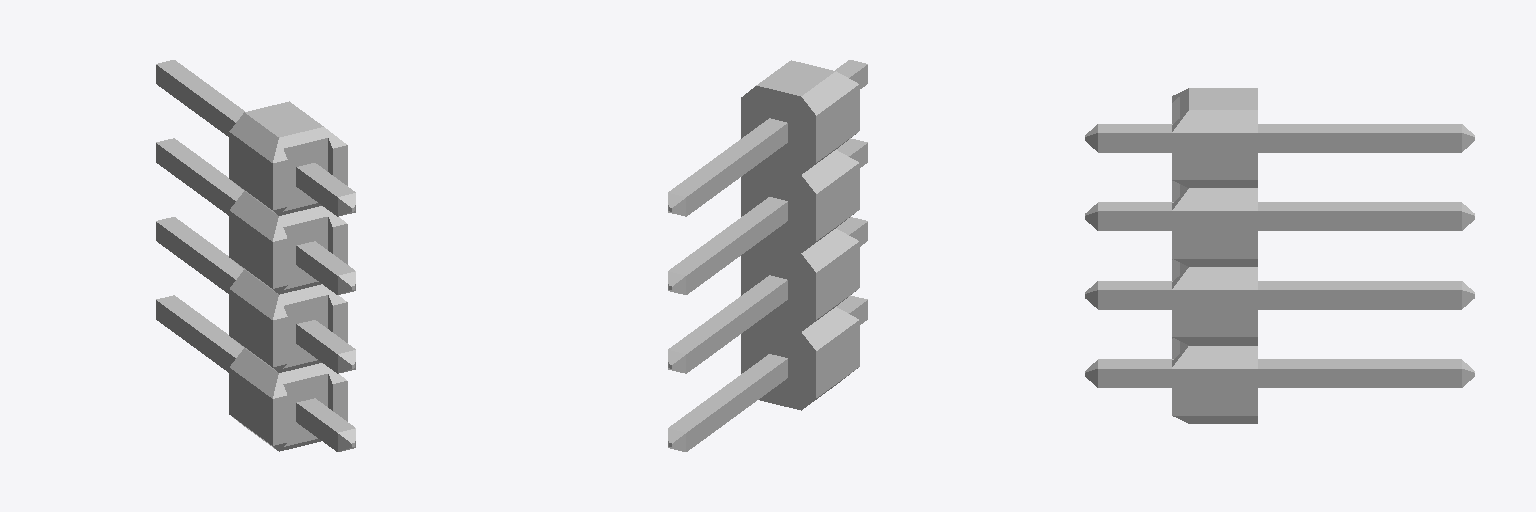
Rendered from Pin Header 4 x 1 TH 2.54mm Pitch.obj.
3 renders of one model, left to right at view 1: azimuth 30°, elevation 25°; view 2: azimuth 150°, elevation 25°; view 3: azimuth 270°, elevation 25°, orthographic.
Visible parts, largest first — view 1: Solid7, Solid1, Solid3, Solid5, Solid8, Solid4, Solid6, Solid2; view 2: Solid7, Solid1, Solid3, Solid5, Solid8, Solid2, Solid4, Solid6; view 3: Solid4, Solid2, Solid6, Solid8, Solid7, Solid1, Solid3, Solid5.
Part boxes in pixels (x1,y1,x2,y2): Solid7: (229, 101, 347, 215); Solid1: (229, 270, 347, 372); Solid3: (229, 191, 347, 294); Solid5: (229, 348, 347, 451); Solid8: (156, 60, 355, 216); Solid4: (156, 138, 355, 294); Solid6: (156, 295, 355, 451); Solid2: (156, 217, 355, 373); Solid7: (741, 60, 859, 174); Solid1: (741, 228, 859, 331); Solid3: (741, 150, 859, 252); Solid5: (741, 307, 859, 410); Solid8: (668, 60, 867, 216); Solid2: (668, 217, 867, 373); Solid4: (668, 138, 867, 294); Solid6: (668, 295, 867, 451); Solid4: (1085, 202, 1474, 230); Solid2: (1085, 281, 1474, 309); Solid6: (1085, 359, 1474, 387); Solid8: (1085, 124, 1474, 152); Solid7: (1172, 88, 1257, 187); Solid1: (1172, 259, 1257, 345); Solid3: (1172, 180, 1257, 266); Solid5: (1172, 338, 1257, 423).
Bounding box in the file's own units: 0.1 × 0.4 × 0.45.